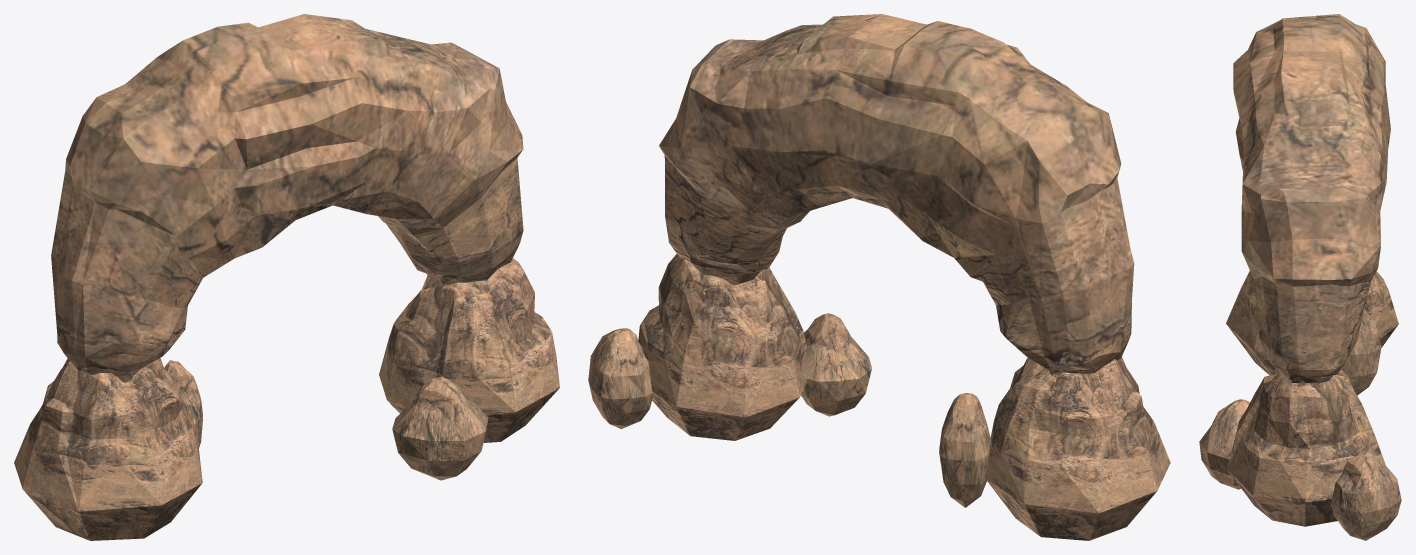
The model's file is rock_tatt_arch_med_l0.fbx.
3 views of the same model, side by side, from view 1: azimuth 30°, elevation 25°; view 2: azimuth 150°, elevation 25°; view 3: azimuth 270°, elevation 25° (orthographic). The views are drawn at different scales.
Parts seen in each view (by area): view 1: mesh_node; view 2: mesh_node; view 3: mesh_node.
Boxes of the visible parts, x1,y1,x2,y2 form: mesh_node: (14, 14, 559, 540); mesh_node: (588, 14, 1170, 540); mesh_node: (1199, 14, 1401, 540).
Size of the model in its own units: 52.02 by 43.23 by 19.31.
